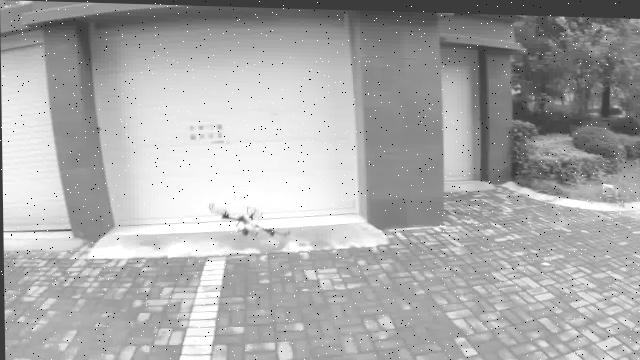drone: (195, 179, 306, 268)
